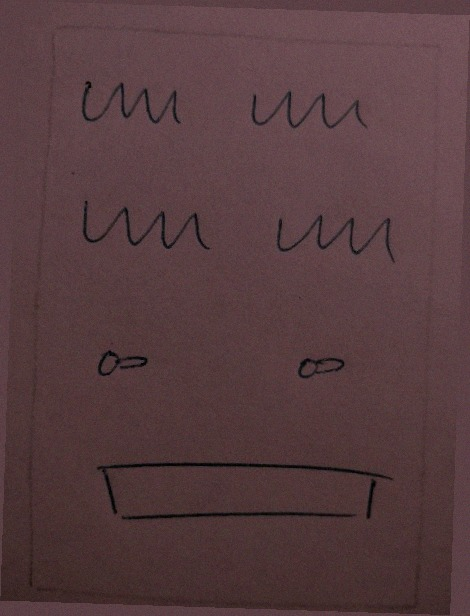switch: (83, 333, 164, 396), (278, 339, 359, 390)
text: (75, 187, 219, 266), (266, 196, 404, 274), (242, 76, 381, 151), (72, 67, 196, 136)
text_input: (72, 452, 404, 536)
